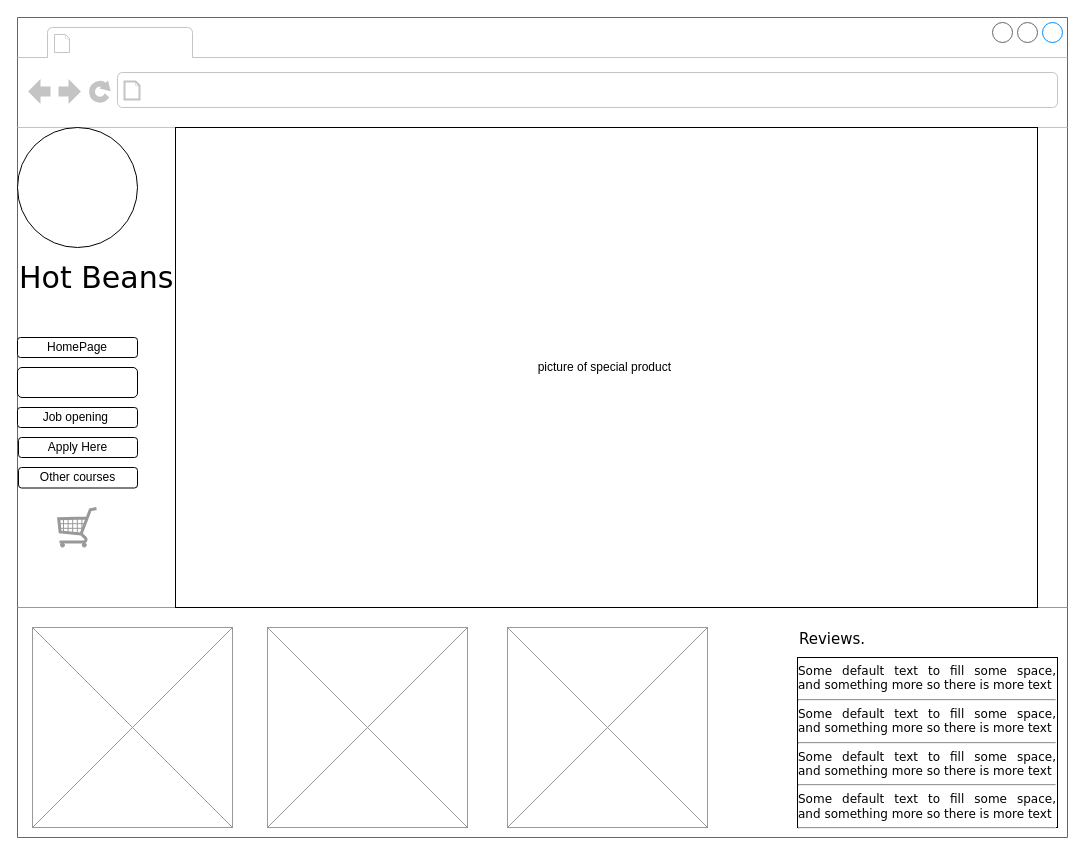
The diagram is 1085 pixels wide and 855 high, and some of its shapes have lost their labels. The centre of each missing label's shape, as x and y in pixels:
"Employee profiles" belongs at point 77,382.
"https://www.default.com" belongs at point 272,90.
"Logo" belongs at point 77,187.
"Page 1" belongs at point 132,42.
